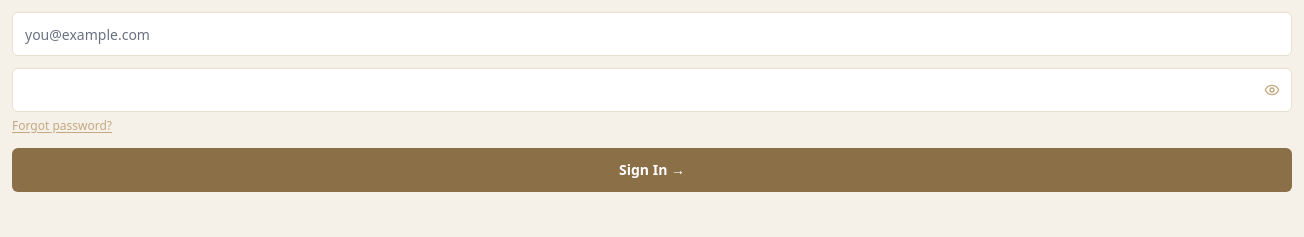
Scenario: LoginForm › ACCOUNT_LOCKED error shows lockout message
Type "test@example.com" into the field named "Email" at (652, 34), box [12,12,1292,56]
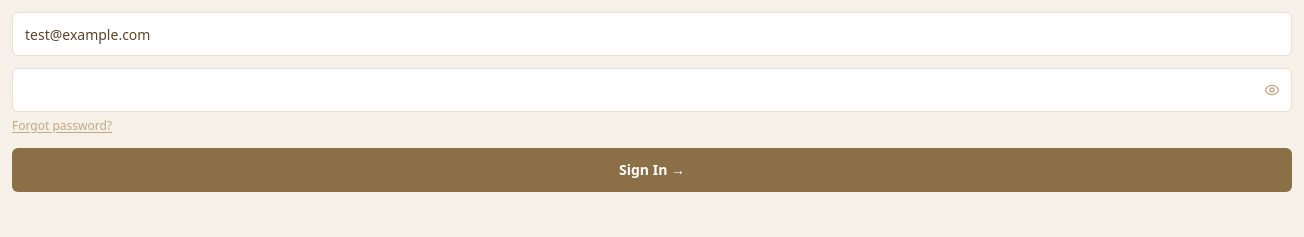
Type "bad" into the password field named "Password" at (652, 90), box [12,68,1292,112]
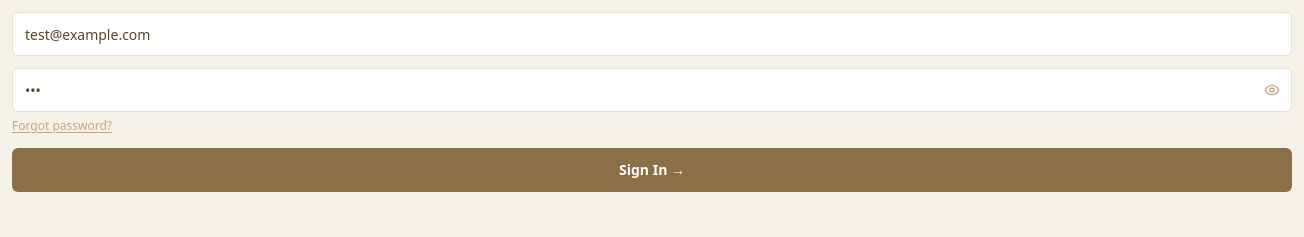
Click the button "Sign In →" at (652, 170), box [12,148,1292,192]
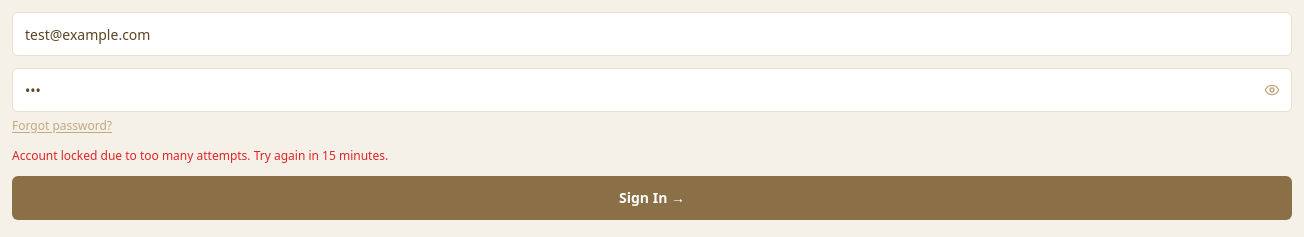
Check: the text "Account locked due to too many attempts. Try again in 15 minutes." is shown, box [12,147,388,164]
